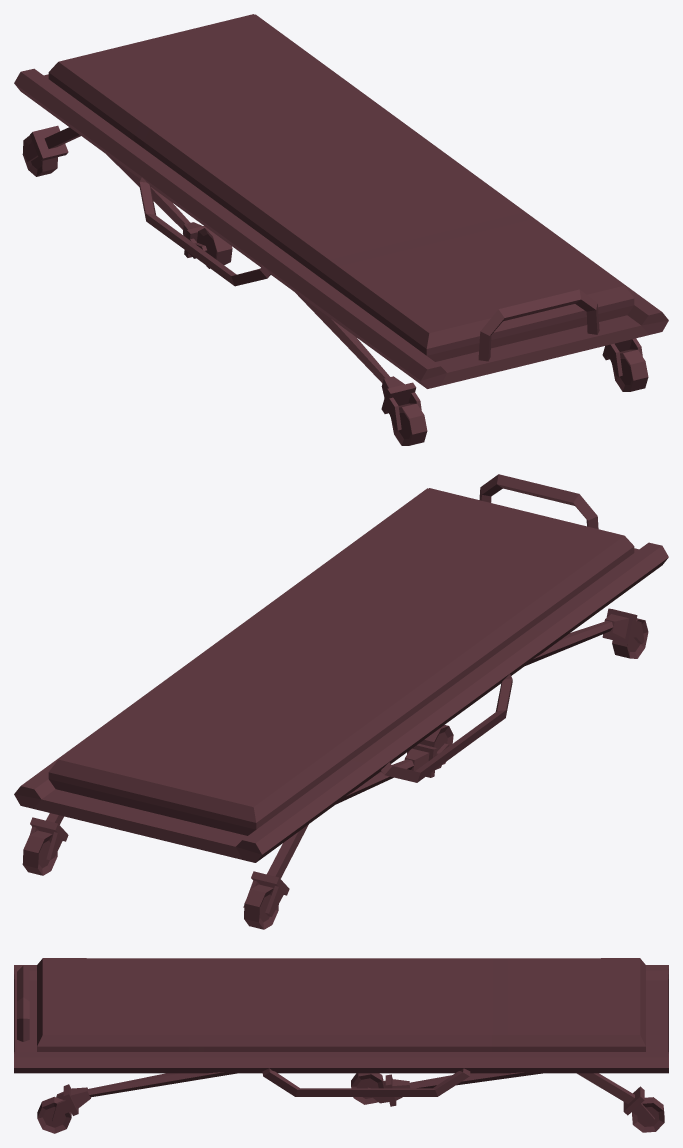
File: stretcher-loading-lowered.fbx
3 views of the same model, one above another, from view 1: azimuth 30°, elevation 25°; view 2: azimuth 150°, elevation 25°; view 3: azimuth 270°, elevation 25° (orthographic). The views are drawn at different scales.
Parts seen in each view (by area): view 1: stretcher-loading-lowered; view 2: stretcher-loading-lowered; view 3: stretcher-loading-lowered.
Boxes of the visible parts, x1=… form: stretcher-loading-lowered: x1=14, y1=14, x2=668, y2=445; stretcher-loading-lowered: x1=14, y1=474, x2=668, y2=929; stretcher-loading-lowered: x1=14, y1=958, x2=668, y2=1133.
Bounding box in the file's own units: 0.8062 × 0.3699 × 2.07.
